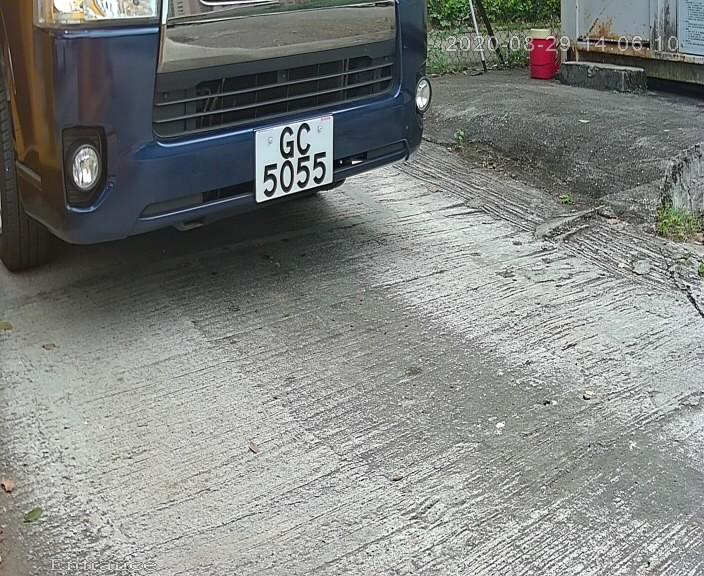License Plate: (243, 109, 343, 206)
